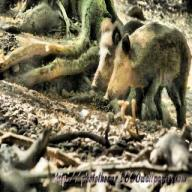boar: (91, 6, 192, 128)
